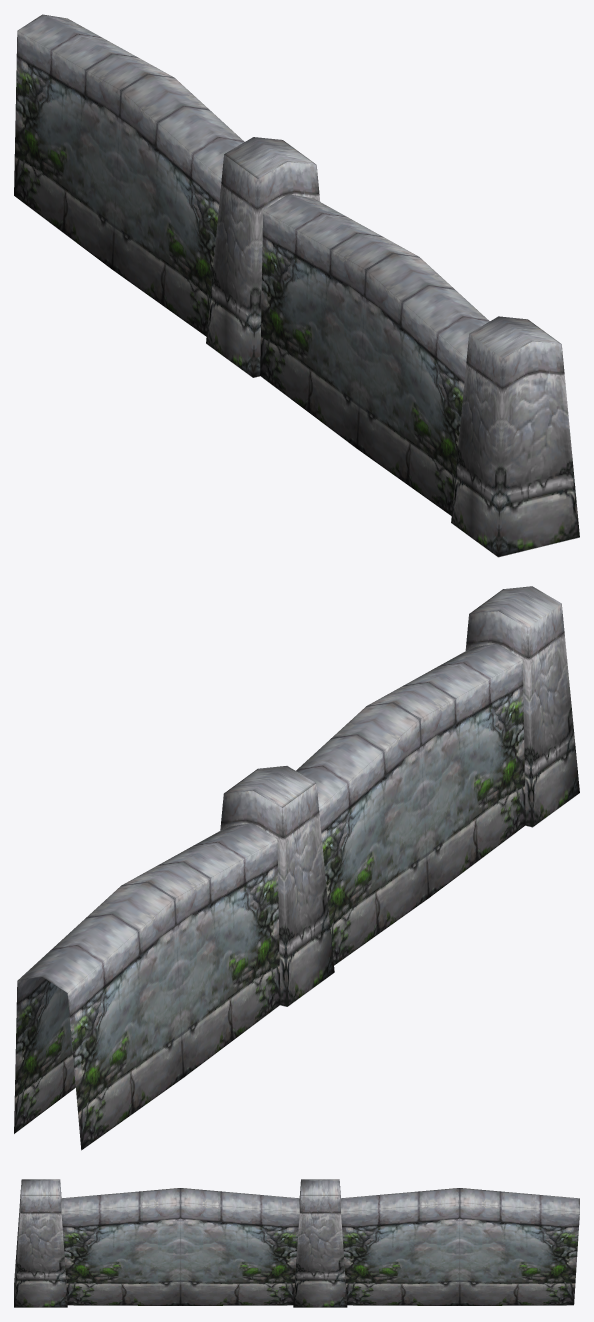
Rendered from elwynnstonefence.obj.
3 views of the same model, one above another, from view 1: azimuth 30°, elevation 25°; view 2: azimuth 150°, elevation 25°; view 3: azimuth 270°, elevation 25° (orthographic). The views are drawn at different scales.
Visible parts, largest first — view 1: Geoset1, Geoset0; view 2: Geoset1, Geoset0; view 3: Geoset1, Geoset0.
Boxes of the visible parts, left/top/right/bottom form: Geoset1: left=14, top=14, right=489, bottom=515; Geoset0: left=206, top=137, right=579, bottom=557; Geoset1: left=14, top=643, right=525, bottom=1150; Geoset0: left=220, top=586, right=579, bottom=1006; Geoset1: left=61, top=1188, right=579, bottom=1305; Geoset0: left=14, top=1179, right=347, bottom=1307.
Bounding box in the file's own units: 0.5573 × 1.31 × 5.86.
2 materials, 2 textured.
